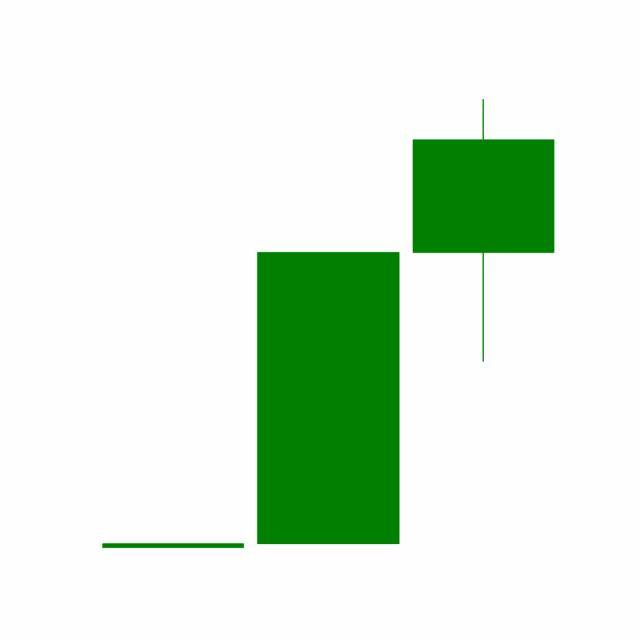Marubozu: (249, 248, 406, 546)
